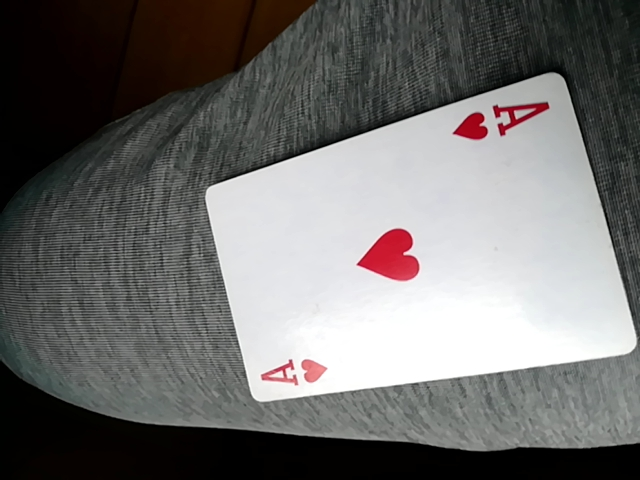hx a: (203, 75, 639, 405)
